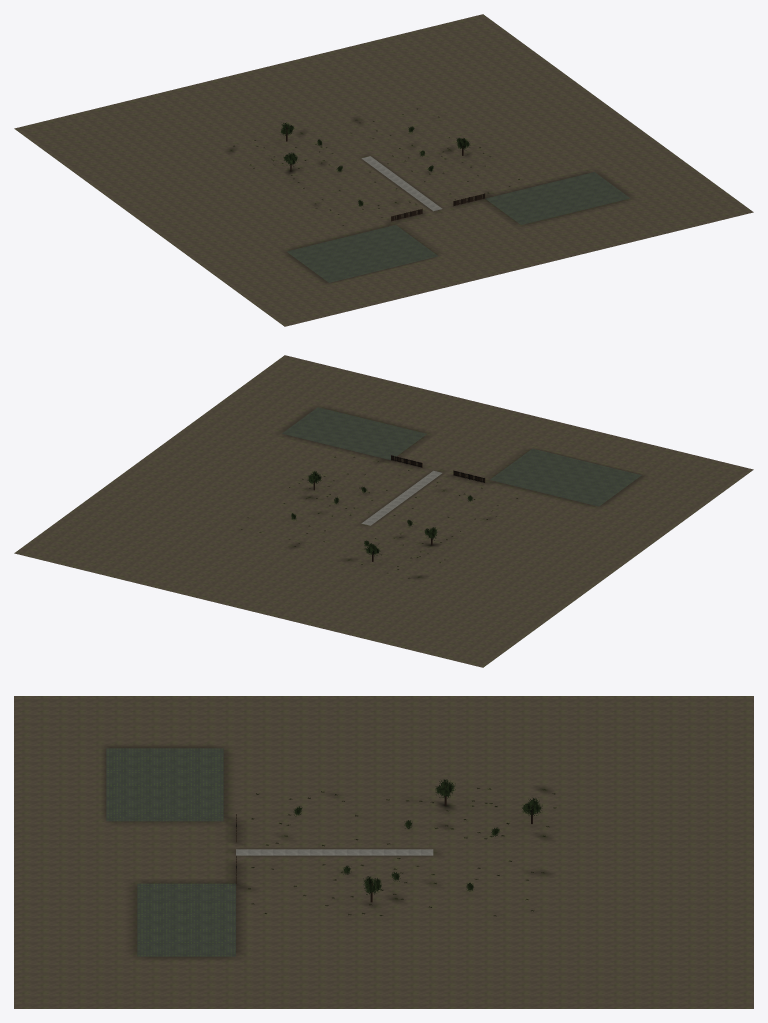
The model's file is fields.glb.
3 renders of one model, top to bottom at view 1: azimuth 30°, elevation 25°; view 2: azimuth 150°, elevation 25°; view 3: azimuth 270°, elevation 25°, orthographic. The views are drawn at different scales.
Parts seen in each view (by area): view 1: fields, track; view 2: fields, track; view 3: fields, track.
Boxes of the visible parts, x1,y1,x2,y2 form: fields: (14, 14, 753, 326); track: (361, 156, 442, 211); fields: (14, 355, 753, 667); track: (361, 470, 442, 525); fields: (14, 696, 753, 1008); track: (236, 849, 433, 855).
Bounding box in the file's own units: 120 × 4.6 × 120.
Materials: 8 (8 with a texture image).
